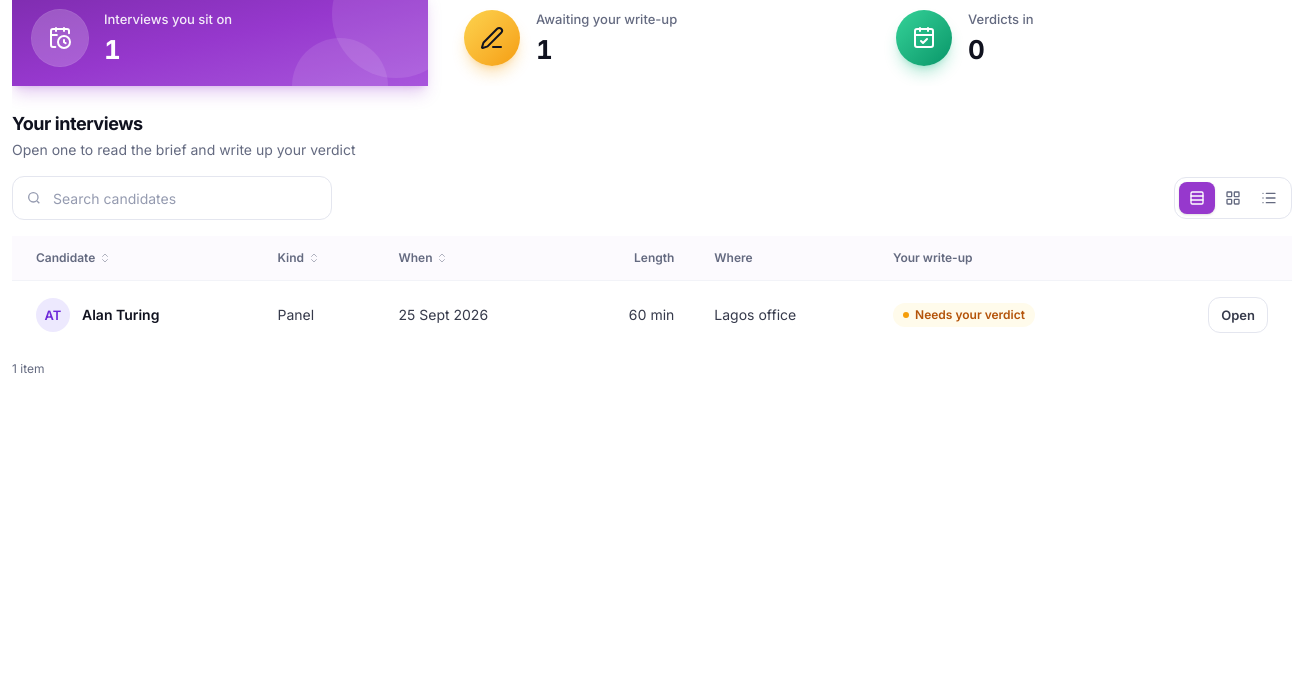
Test: MyInterviews › writing a verdict › refuses to submit without a verdict
Click the button "Open" at (1238, 315), box [1208,297,1268,333]
(page scrolled)
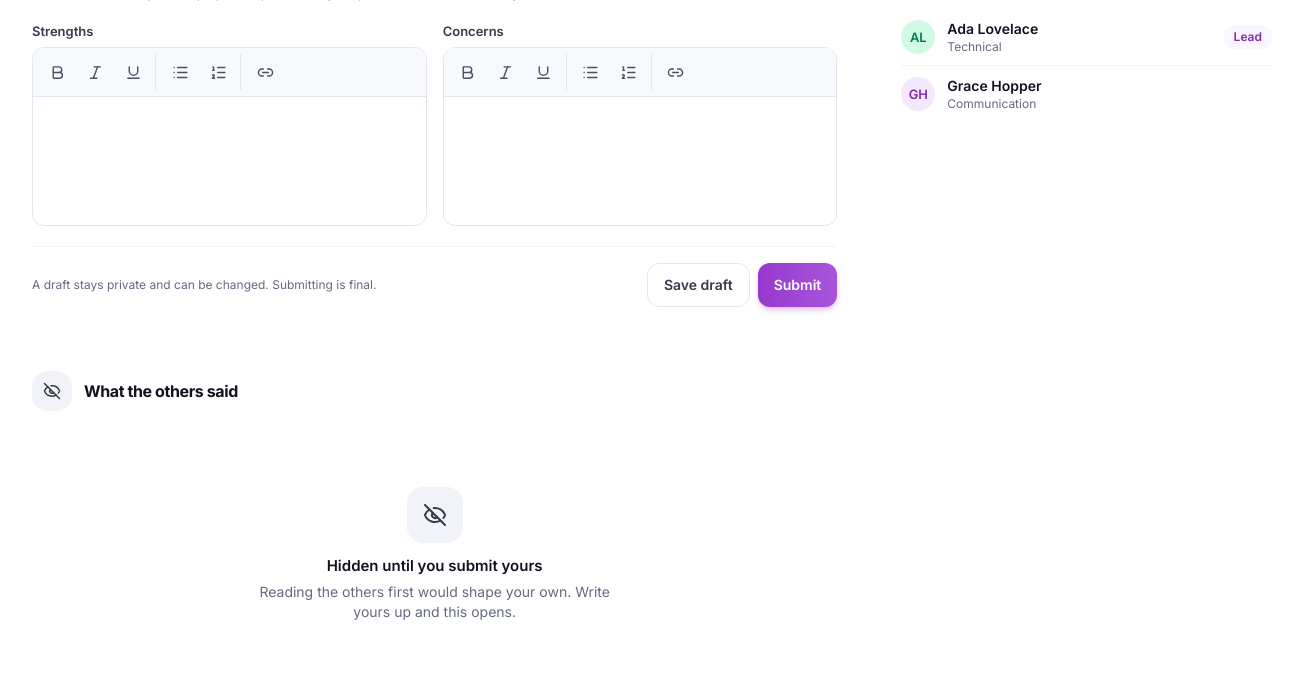
Click the button "Submit" at (798, 285), box [758,263,837,307]
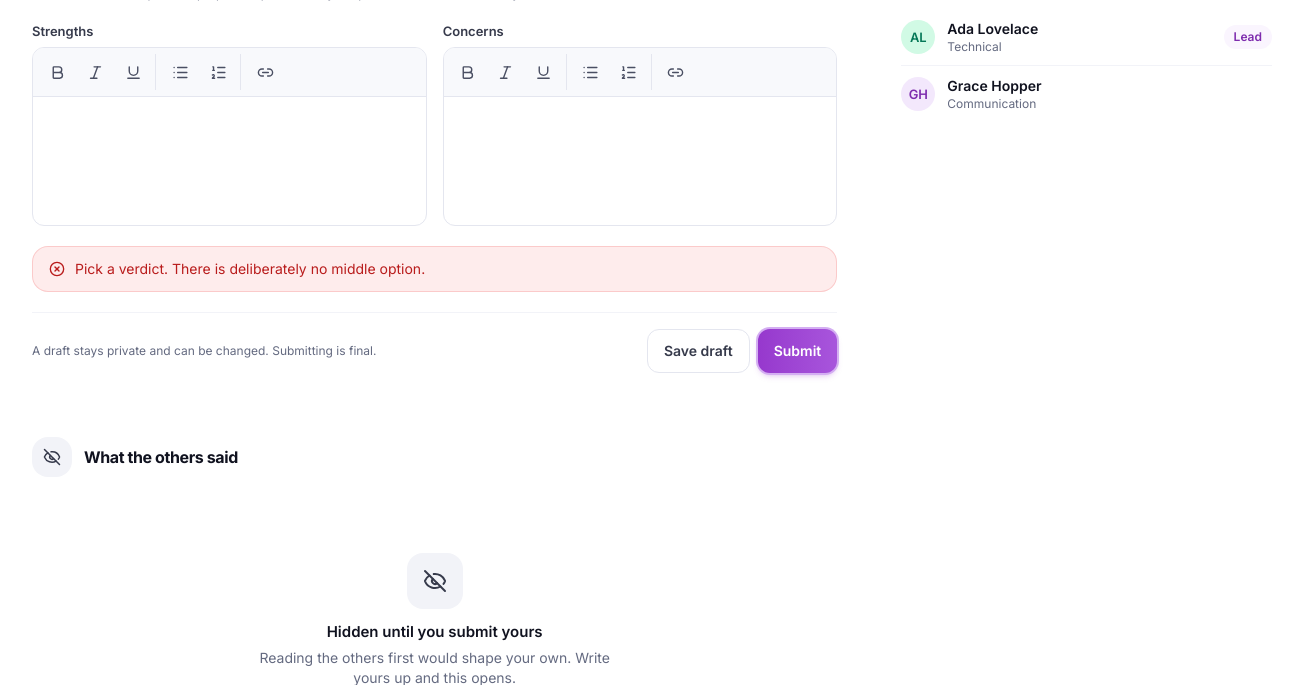
Check: the text "Pick a verdict. There is deliberately no middle option." is shown, box [75,259,425,279]
